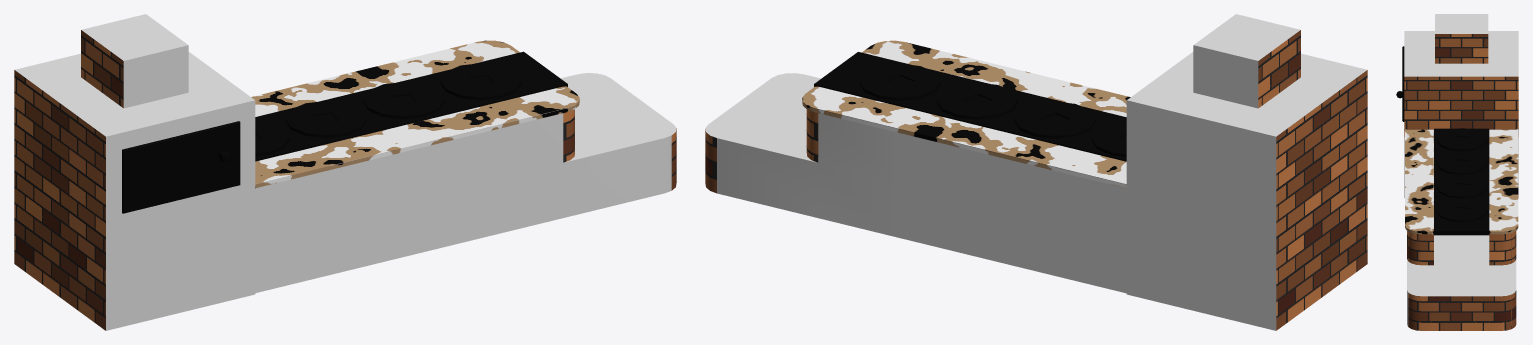
Rendered from Fogão.fbx.
3 views of the same model, side by side, from view 1: azimuth 30°, elevation 25°; view 2: azimuth 150°, elevation 25°; view 3: azimuth 270°, elevation 25° (orthographic). The views are drawn at different scales.
Parts seen in each view (by area): view 1: WoodBurningStove; view 2: WoodBurningStove; view 3: WoodBurningStove.
Part boxes in pixels (box(x1,y1,x2,y2)): WoodBurningStove: box(14, 14, 676, 330); WoodBurningStove: box(705, 14, 1367, 330); WoodBurningStove: box(1396, 14, 1518, 330).
Size of the model in its own units: 4.93 by 1.96 by 1.44.
